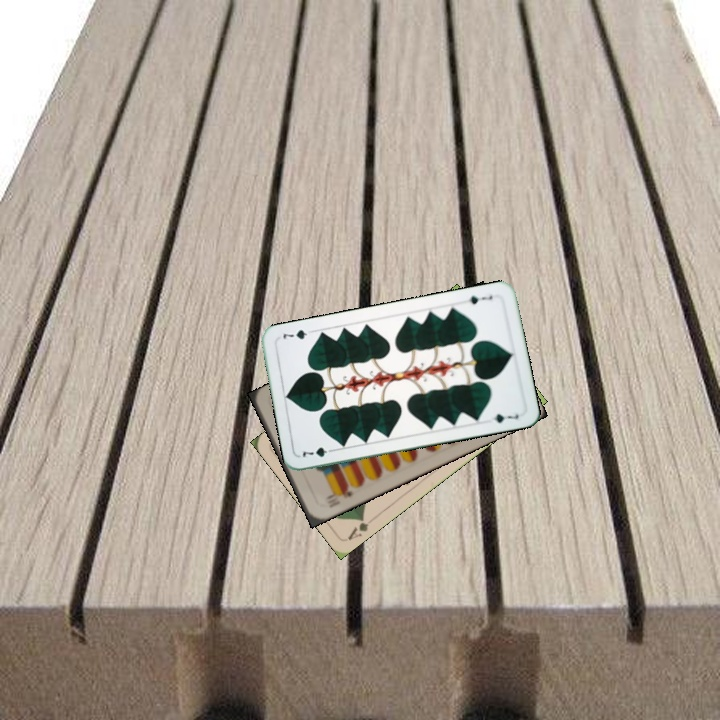E10: (323, 483, 356, 511)
G7: (298, 443, 338, 460), (465, 291, 495, 307)
GA: (343, 513, 371, 543)
